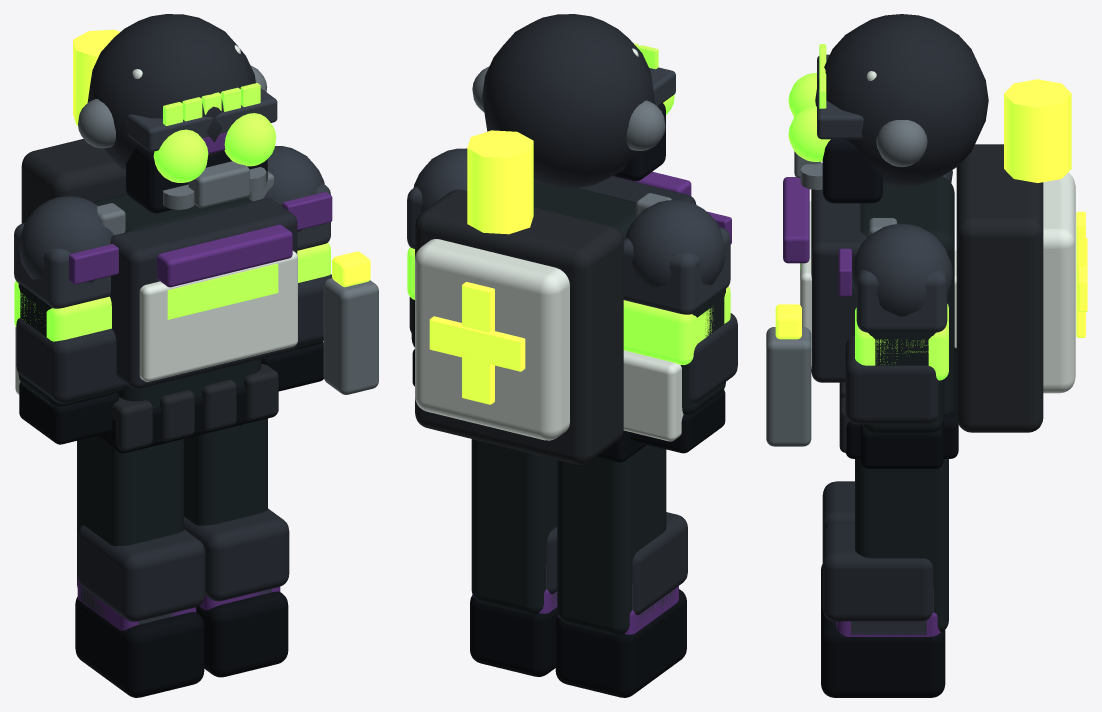
Rendered from medic_l05.glb.
The picture shows the model from 3 angles, left to right: view 1: azimuth 30°, elevation 25°; view 2: azimuth 150°, elevation 25°; view 3: azimuth 270°, elevation 25°; orthographic projection. The views are drawn at different scales.
Visible parts, largest first — view 1: trouser (×2), shaped_knee_guard (×2), boot (×2), rounded_helmet, reinforced_vest, segmented_vest, forearm_plate (×2), shoulder_joint (×2), aid_injector, field_pack, glove (×2), field_medical_rank (+22 smaller); view 2: trouser (×2), rounded_helmet, field_pack, medical_pack, boot (×2), shoulder_joint (×2), elite_aid_beacon, shoulder_plate (×2), triage_satchel, shaped_knee_guard (×2), rank_stripe, aid_cross_horizontal (+12 smaller); view 3: field_pack, rounded_helmet, trouser, shaped_knee_guard (×2), boot, segmented_vest, medical_pack, elite_aid_beacon, shoulder_joint, forearm_plate, aid_injector, body (+19 smaller).
Part boxes in pixels (x1=…): trouser (×2): x1=77, y1=418, x2=267, y2=587; shaped_knee_guard (×2): x1=78, y1=508, x2=289, y2=621; boot (×2): x1=75, y1=591, x2=288, y2=697; rounded_helmet: x1=87, y1=14, x2=255, y2=170; reinforced_vest: x1=139, y1=250, x2=297, y2=381; segmented_vest: x1=110, y1=198, x2=297, y2=389; forearm_plate (×2): x1=16, y1=274, x2=332, y2=403; shoulder_joint (×2): x1=19, y1=146, x2=324, y2=282; aid_injector: x1=323, y1=278, x2=378, y2=394; field_pack: x1=21, y1=139, x2=126, y2=223; glove (×2): x1=19, y1=342, x2=323, y2=444; field_medical_rank: x1=157, y1=224, x2=292, y2=287; trouser (×2): x1=471, y1=439, x2=666, y2=635; rounded_helmet: x1=482, y1=14, x2=655, y2=188; field_pack: x1=415, y1=189, x2=623, y2=464; medical_pack: x1=415, y1=239, x2=569, y2=440; boot (×2): x1=470, y1=589, x2=686, y2=697; shoulder_joint (×2): x1=413, y1=148, x2=725, y2=288; elite_aid_beacon: x1=467, y1=130, x2=533, y2=234; shoulder_plate (×2): x1=407, y1=186, x2=730, y2=314; triage_satchel: x1=623, y1=350, x2=683, y2=441; shaped_knee_guard (×2): x1=546, y1=512, x2=687, y2=615; rank_stripe: x1=623, y1=286, x2=730, y2=364; aid_cross_horizontal: x1=429, y1=316, x2=525, y2=371; field_pack: x1=956, y1=144, x2=1043, y2=432; rounded_helmet: x1=815, y1=14, x2=988, y2=186; trouser: x1=855, y1=459, x2=948, y2=631; shaped_knee_guard (×2): x1=822, y1=481, x2=933, y2=621; boot: x1=821, y1=605, x2=945, y2=697; segmented_vest: x1=811, y1=189, x2=866, y2=382; medical_pack: x1=1043, y1=173, x2=1075, y2=393; elite_aid_beacon: x1=1004, y1=79, x2=1071, y2=182; shoulder_joint: x1=852, y1=224, x2=952, y2=316; forearm_plate: x1=845, y1=335, x2=938, y2=424; aid_injector: x1=766, y1=327, x2=811, y2=446; body: x1=860, y1=176, x2=954, y2=413.
Bounding box in the file's own units: 0.91 × 1.88 × 0.8525.
